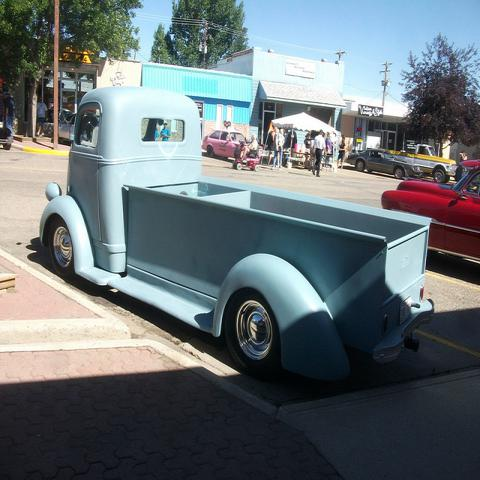car: (380, 160, 480, 265), (347, 148, 424, 180), (202, 129, 246, 160), (59, 112, 77, 146)
truck: (38, 89, 437, 383), (380, 143, 457, 181)
